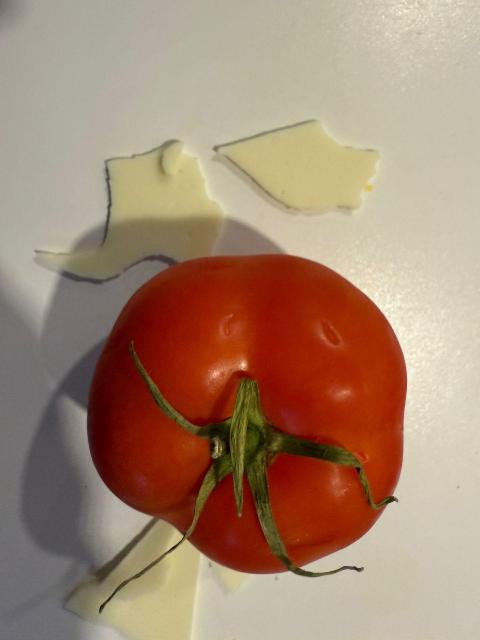Organik: (91, 267, 400, 557), (13, 135, 225, 272), (40, 529, 229, 640), (208, 131, 393, 213)
